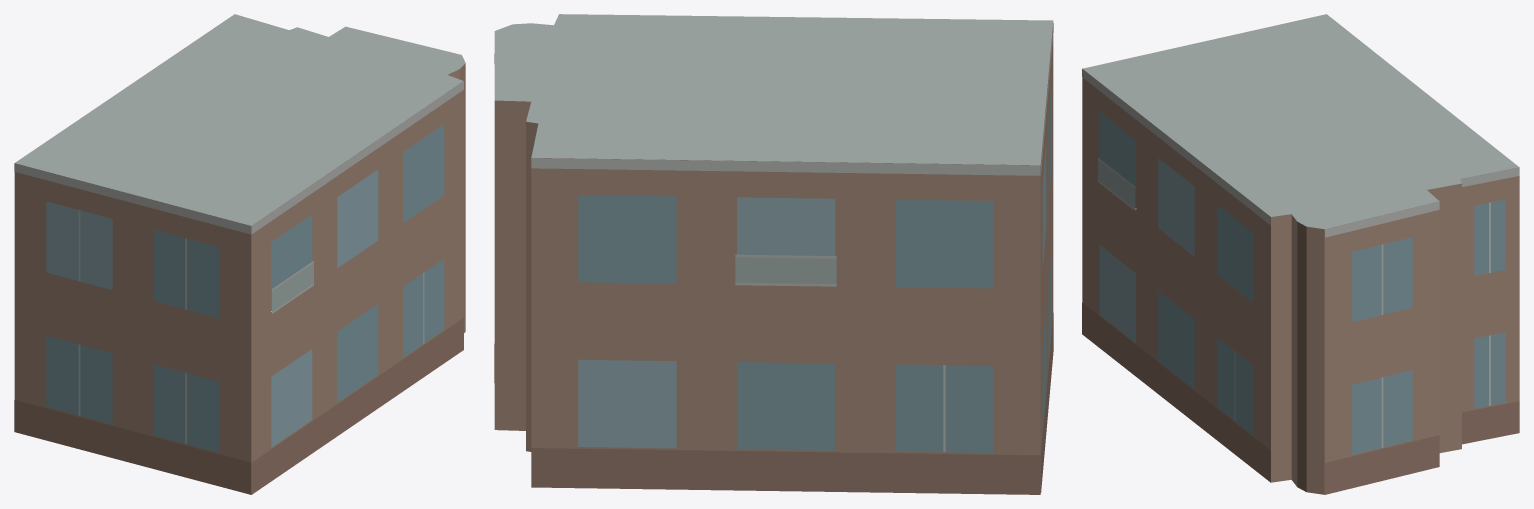
The model's file is survey-upis-32968872.glb.
The picture shows the model from 3 angles, left to right: view 1: azimuth 30°, elevation 25°; view 2: azimuth 150°, elevation 25°; view 3: azimuth 270°, elevation 25°; orthographic projection. The views are drawn at different scales.
Visible parts, largest first — view 1: survey-upis-32968872.tmp; view 2: survey-upis-32968872.tmp; view 3: survey-upis-32968872.tmp.
Part boxes in pixels (x1,y1,x2,y2): survey-upis-32968872.tmp: (14,14,465,494); survey-upis-32968872.tmp: (494,14,1053,494); survey-upis-32968872.tmp: (1082,14,1519,494).
Bounding box in the file's own units: 13.21 × 7.6 × 11.35.
